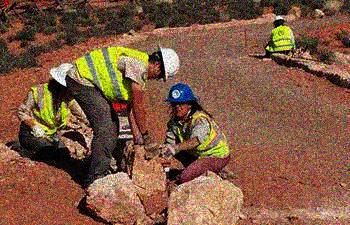helmet: (48, 61, 80, 99), (164, 82, 198, 117), (149, 44, 179, 82), (272, 14, 287, 28)
